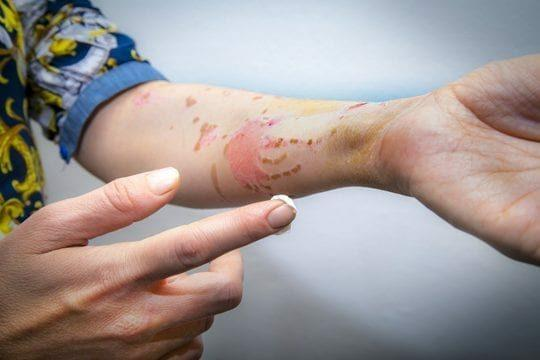burned-skin: (194, 117, 390, 192)
